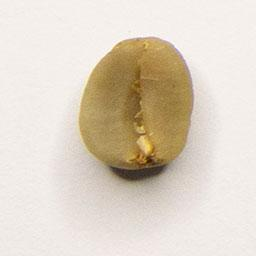premium: (75, 33, 197, 175)
